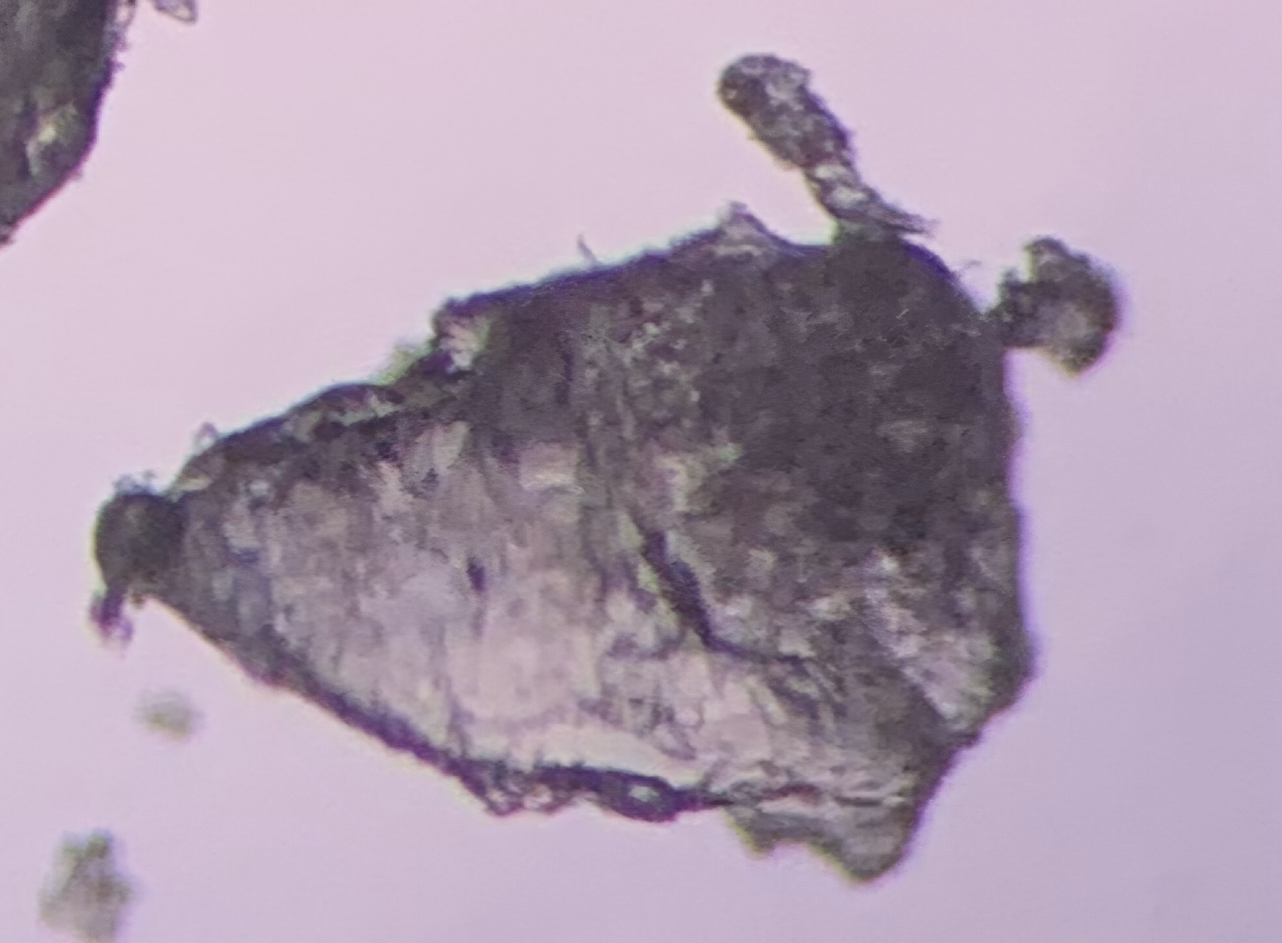microplastic: (86, 52, 1128, 894), (1, 1, 200, 246)
